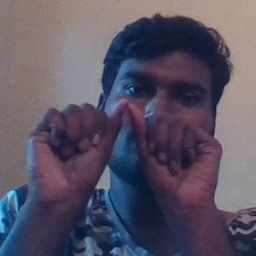A: (48, 98, 201, 204)
